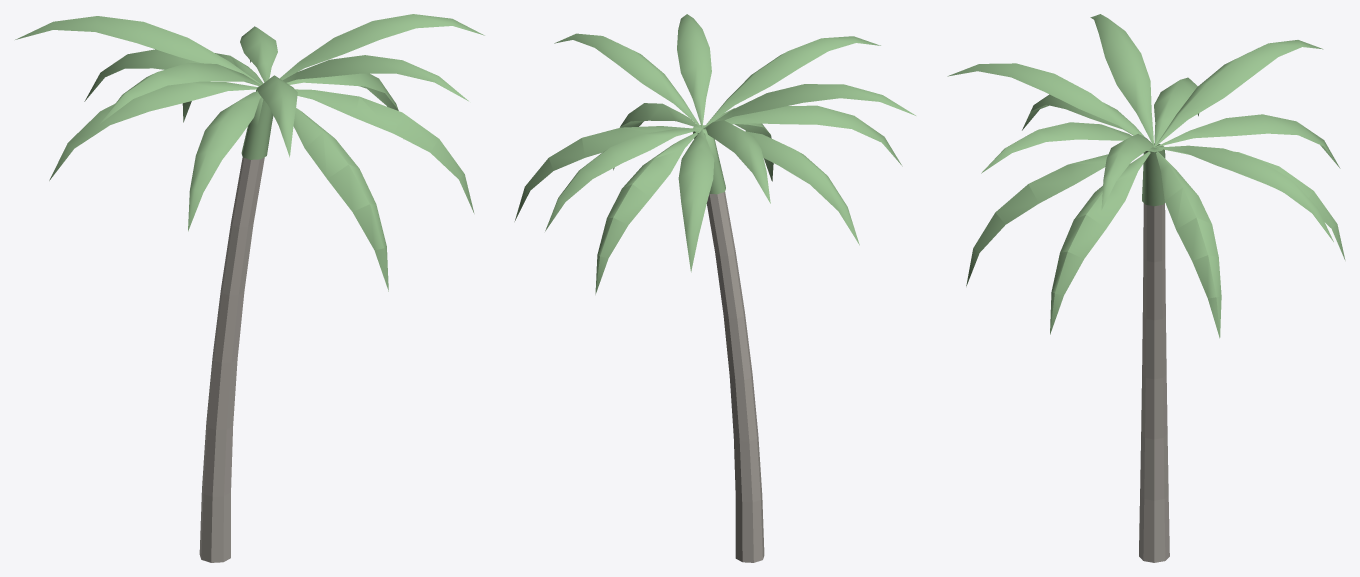
The model's file is tree-palm-c.glb.
3 renders of one model, left to right at view 1: azimuth 30°, elevation 25°; view 2: azimuth 150°, elevation 25°; view 3: azimuth 270°, elevation 25°, orthographic. The views are drawn at different scales.
Visible parts, largest first — view 1: tree-palm-c; view 2: tree-palm-c; view 3: tree-palm-c.
Boxes of the visible parts, x1,y1,x2,y2 form: tree-palm-c: [15, 14, 484, 562]; tree-palm-c: [514, 14, 915, 562]; tree-palm-c: [947, 14, 1345, 562].
Size of the model in its own units: 0.789 by 1 by 0.7313.
